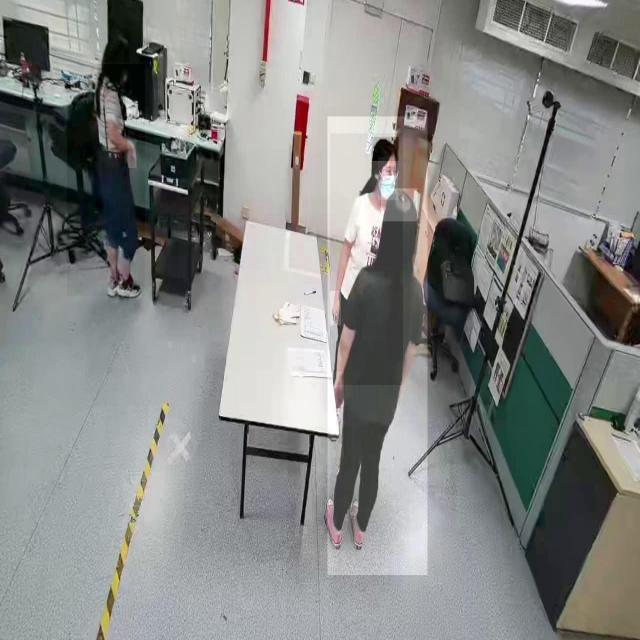boots: (323, 490, 347, 552), (348, 492, 368, 554), (114, 272, 142, 304)
